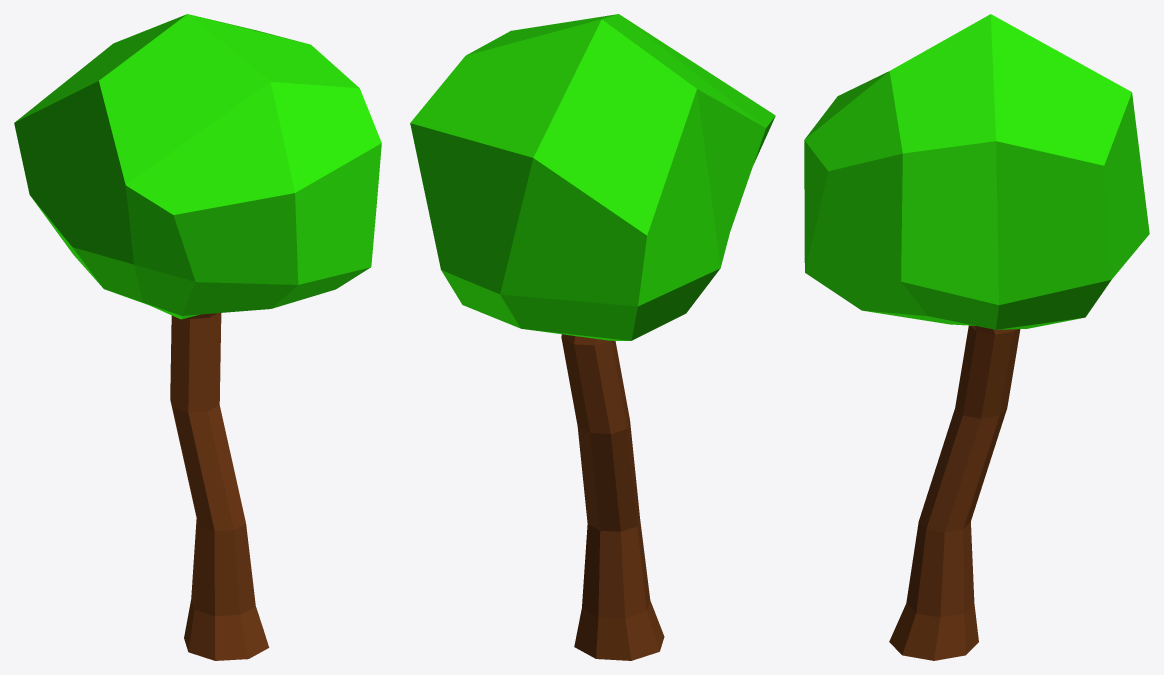
Rendered from Tree1.fbx.
3 renders of one model, left to right at view 1: azimuth 30°, elevation 25°; view 2: azimuth 150°, elevation 25°; view 3: azimuth 270°, elevation 25°, orthographic. The views are drawn at different scales.
Visible parts, largest first — view 1: Tree1; view 2: Tree1; view 3: Tree1.
Boxes of the visible parts, x1=… form: Tree1: x1=14, y1=14, x2=381, y2=660; Tree1: x1=410, y1=14, x2=775, y2=660; Tree1: x1=804, y1=14, x2=1149, y2=660.
Size of the model in its own units: 159 by 354 by 178.
